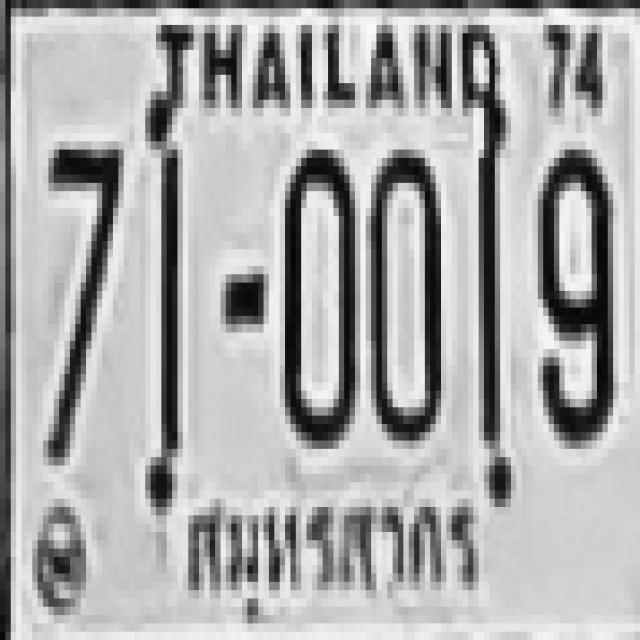0: (280, 142, 355, 440), (366, 146, 441, 437)
7: (43, 141, 118, 457), (46, 141, 121, 424), (46, 142, 121, 358)
9: (535, 142, 611, 440)
SamutSakhon: (172, 479, 494, 637)
